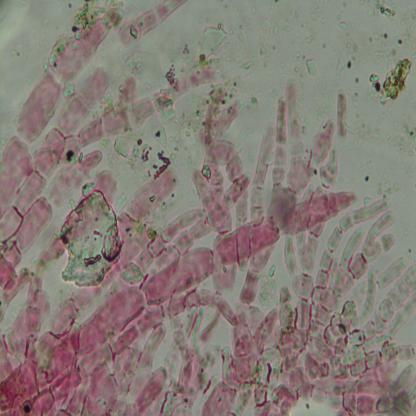Background material: (57, 193, 121, 287), (113, 132, 172, 174), (353, 118, 416, 154), (370, 54, 411, 106), (196, 23, 226, 61), (258, 17, 282, 61), (393, 5, 416, 43), (366, 1, 397, 22), (379, 168, 397, 199), (347, 43, 361, 67), (364, 29, 387, 43), (238, 54, 255, 70), (358, 164, 372, 183), (305, 57, 317, 74), (233, 28, 242, 47), (335, 57, 345, 72), (338, 20, 348, 31), (393, 40, 404, 50)
